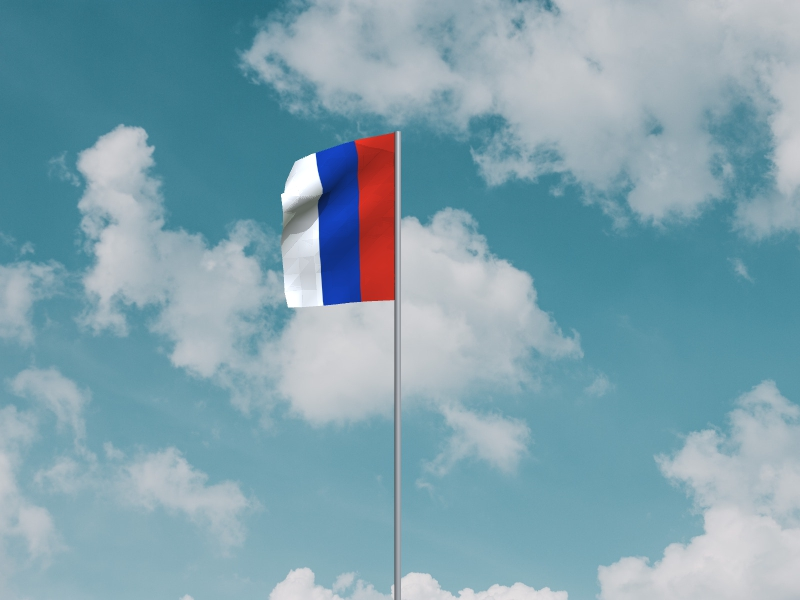ru: (280, 134, 395, 308)
